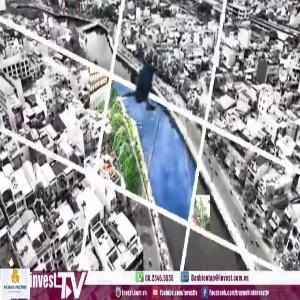drone: (95, 39, 187, 131)
